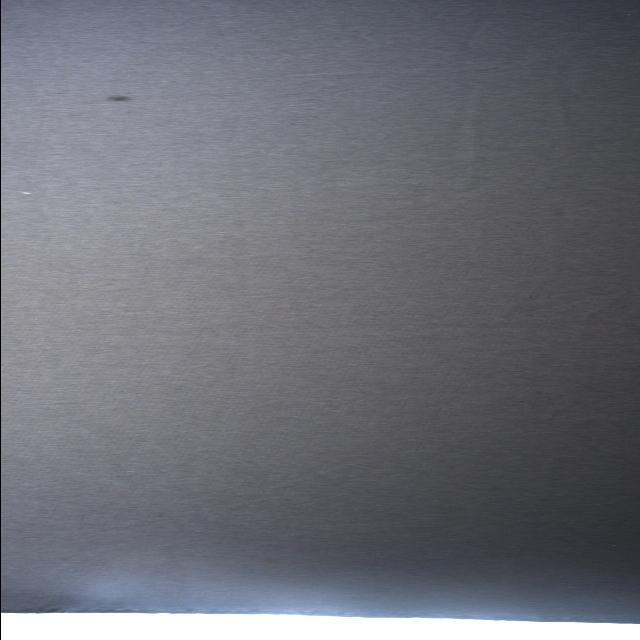crease: (440, 85, 480, 163)
